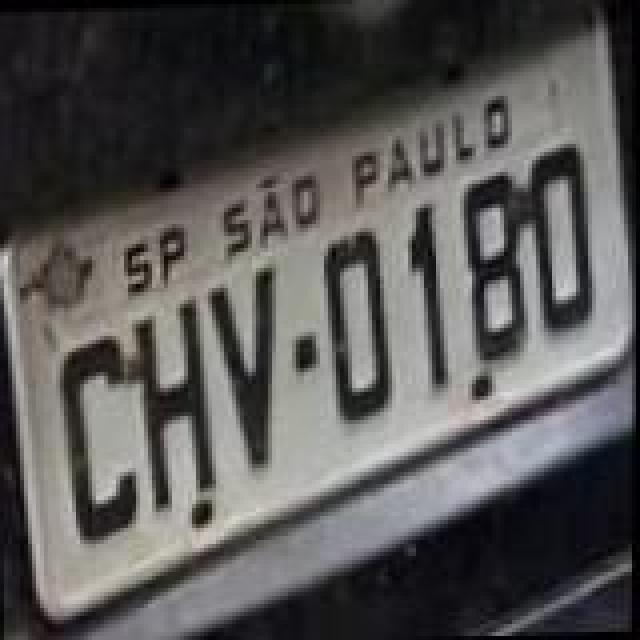1: (402, 198, 454, 386)
8: (450, 166, 530, 366)
C: (52, 332, 144, 548)
H: (126, 294, 222, 514)
O: (316, 220, 396, 424), (524, 136, 604, 328)
V: (200, 262, 284, 470)
